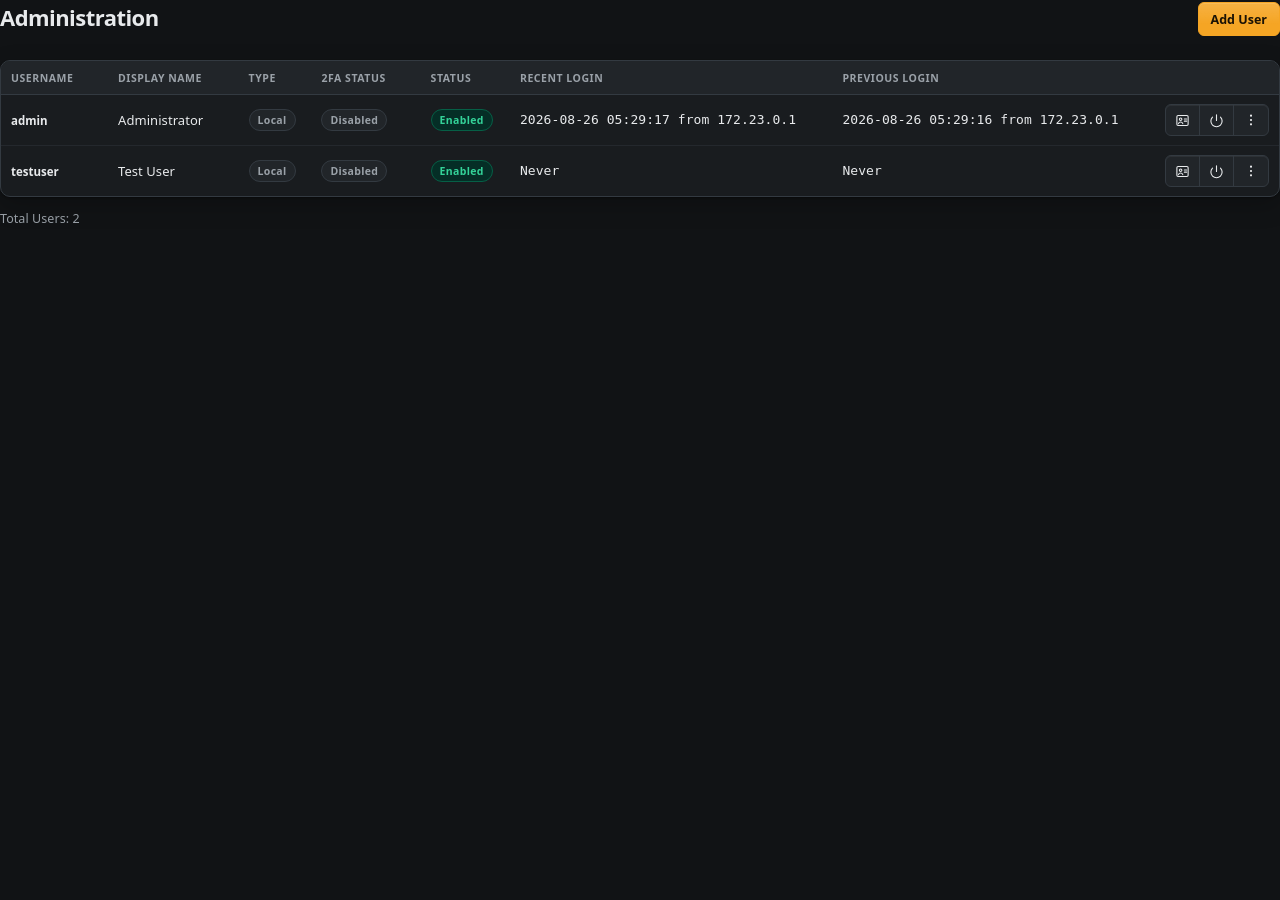
Test case: Users: "Add User" › the order of the four validations is the one of upstream
Click the button "Add User".
click(1239, 19)  # box [1198,2,1279,36]
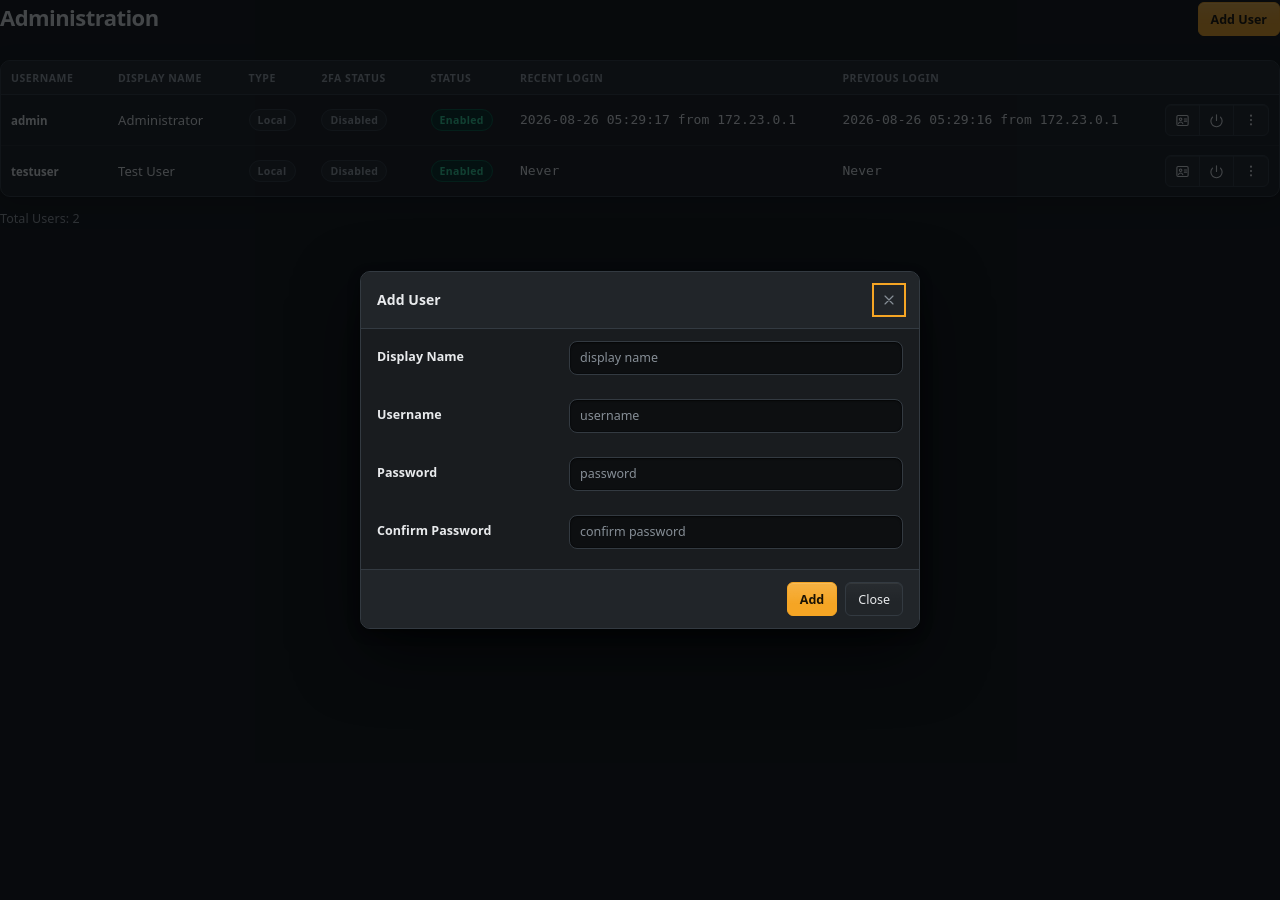
Expected: the password field labelled "Confirm Password" is shown, [569,515,903,549]
Click the button "Add".
click(812, 599)  # box [787,582,837,616]
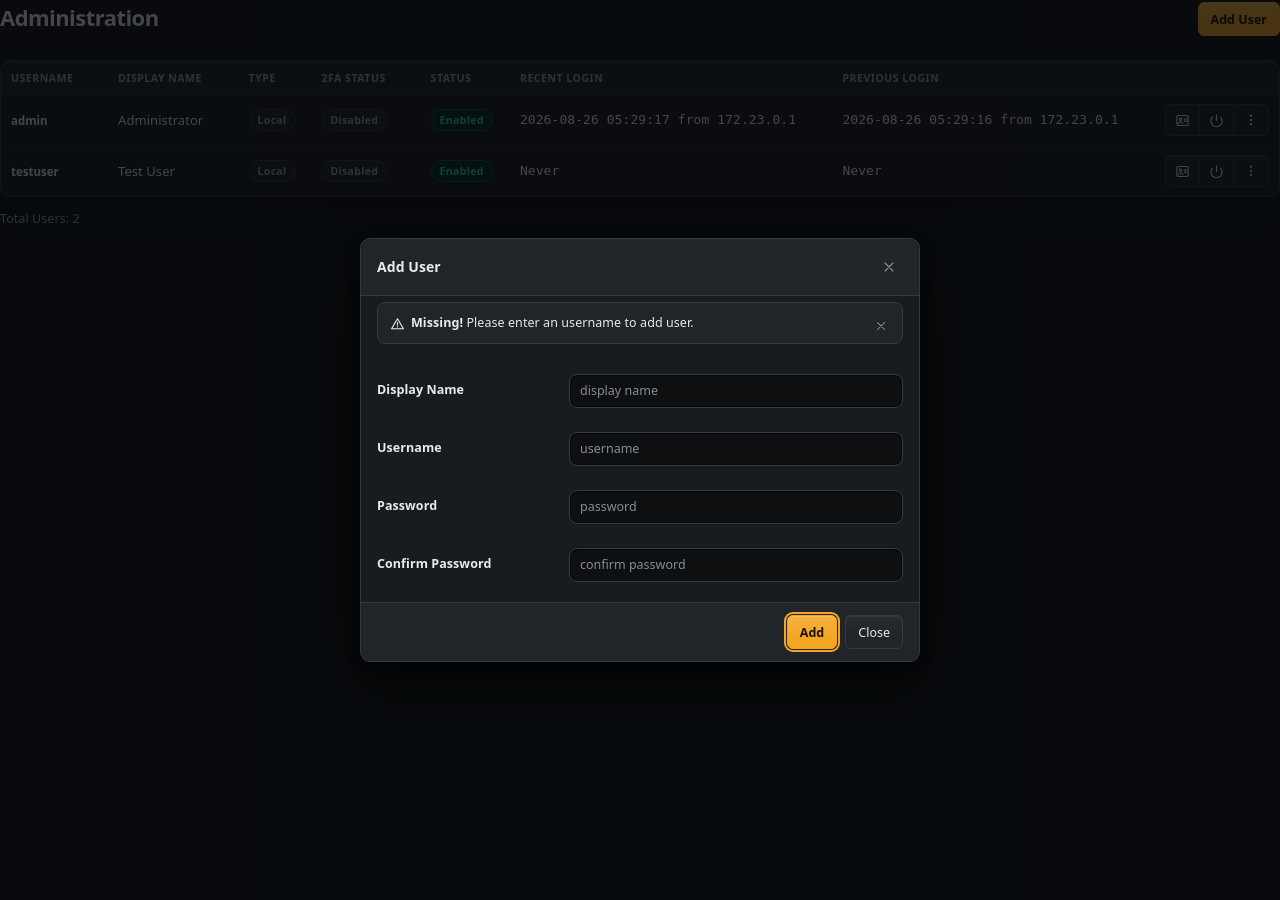
Expected: the text "Please enter an username to add user." is shown, [466,314,694,331]
Type "newuser" into the field labelled "Username".
click(736, 449); type("newuser")  # box [569,432,903,466]
Click the button "Add".
click(812, 632)  # box [787,615,837,649]
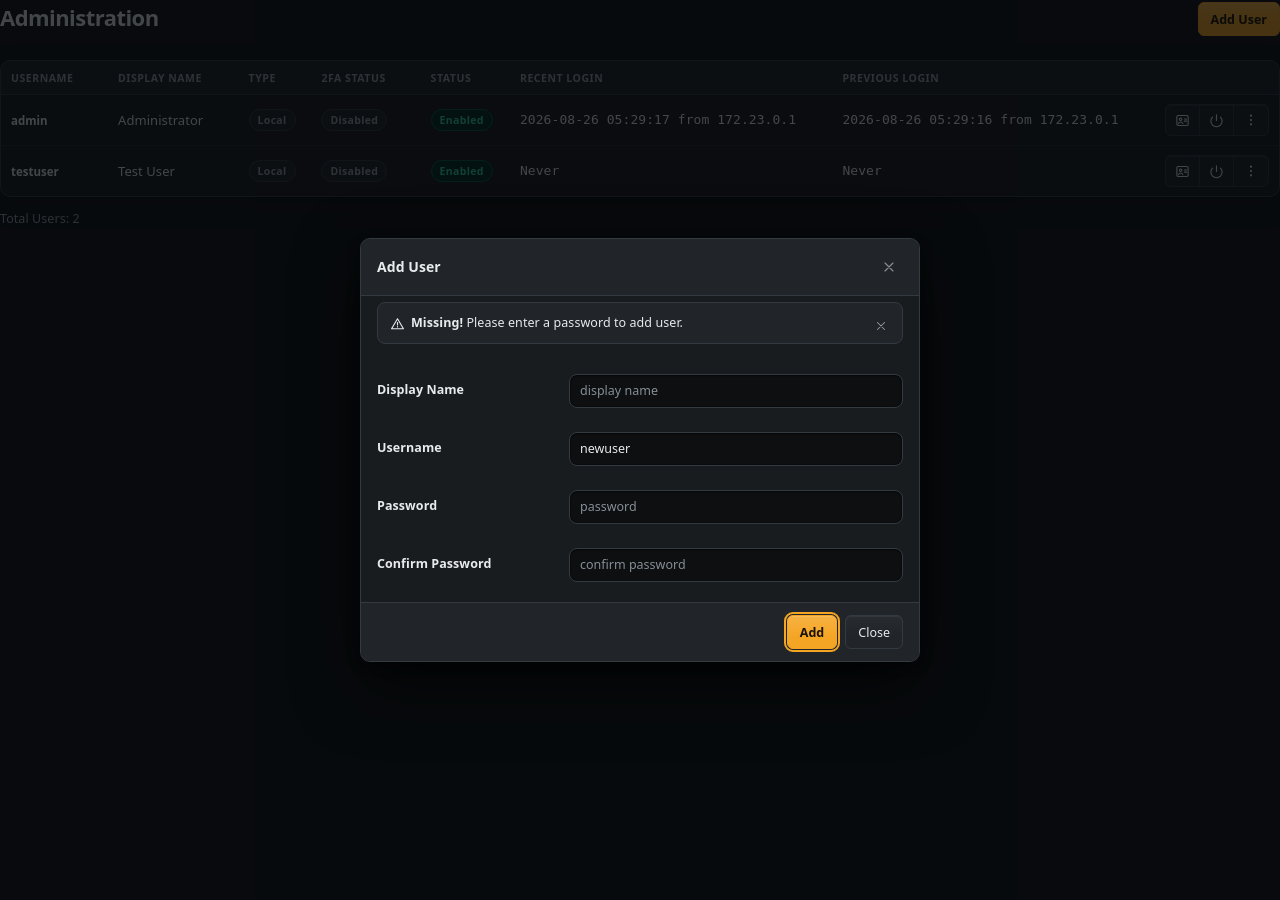
Expected: the text "Please enter a password to add user." is shown, [466,314,683,331]
Type "one" into the password field labelled "Password".
click(736, 507); type("one")  # box [569,490,903,524]
Click the button "Add".
click(812, 632)  # box [787,615,837,649]
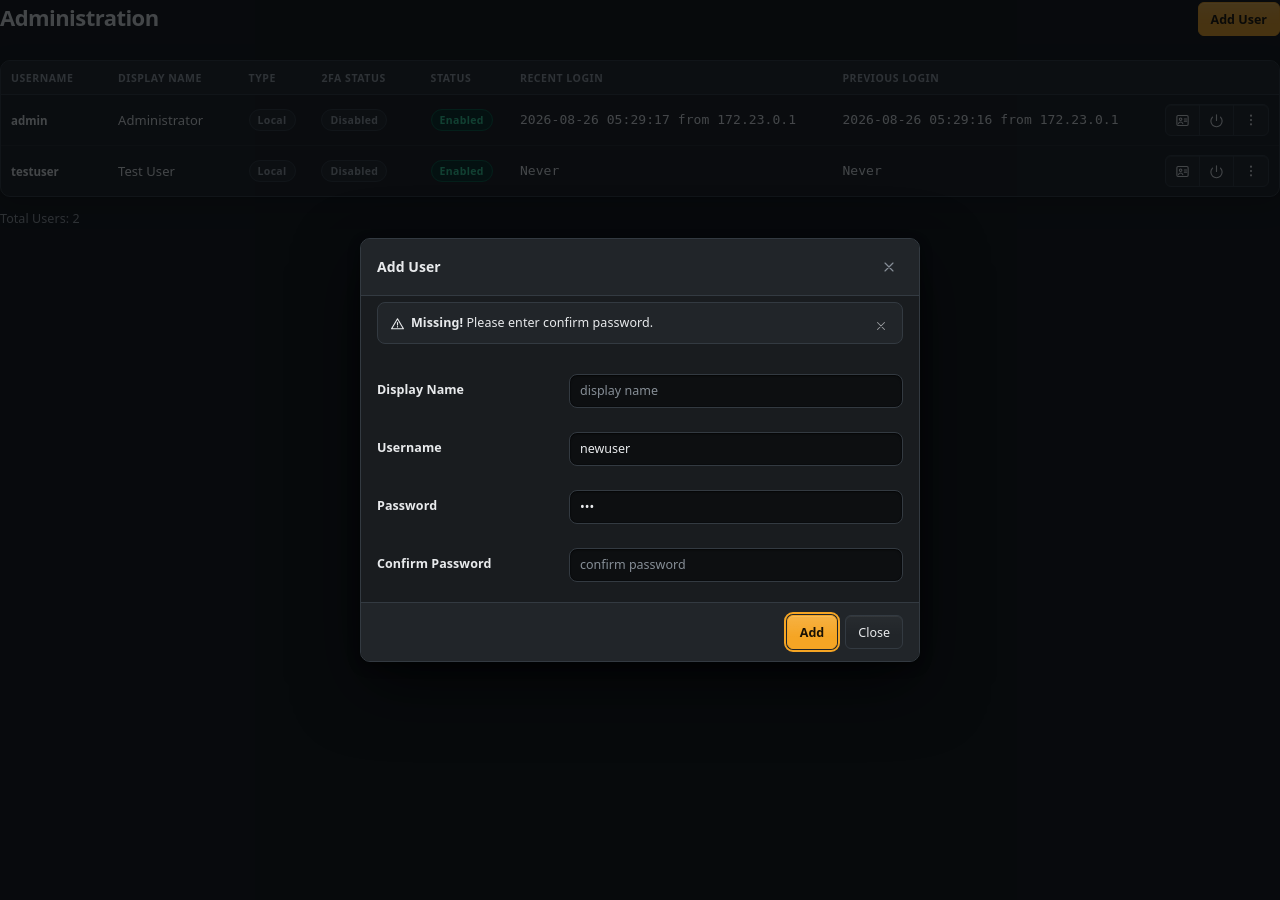
Expected: the text "Please enter confirm password." is shown, [466,314,653,331]
Type "two" into the password field labelled "Confirm Password".
click(736, 565); type("two")  # box [569,548,903,582]
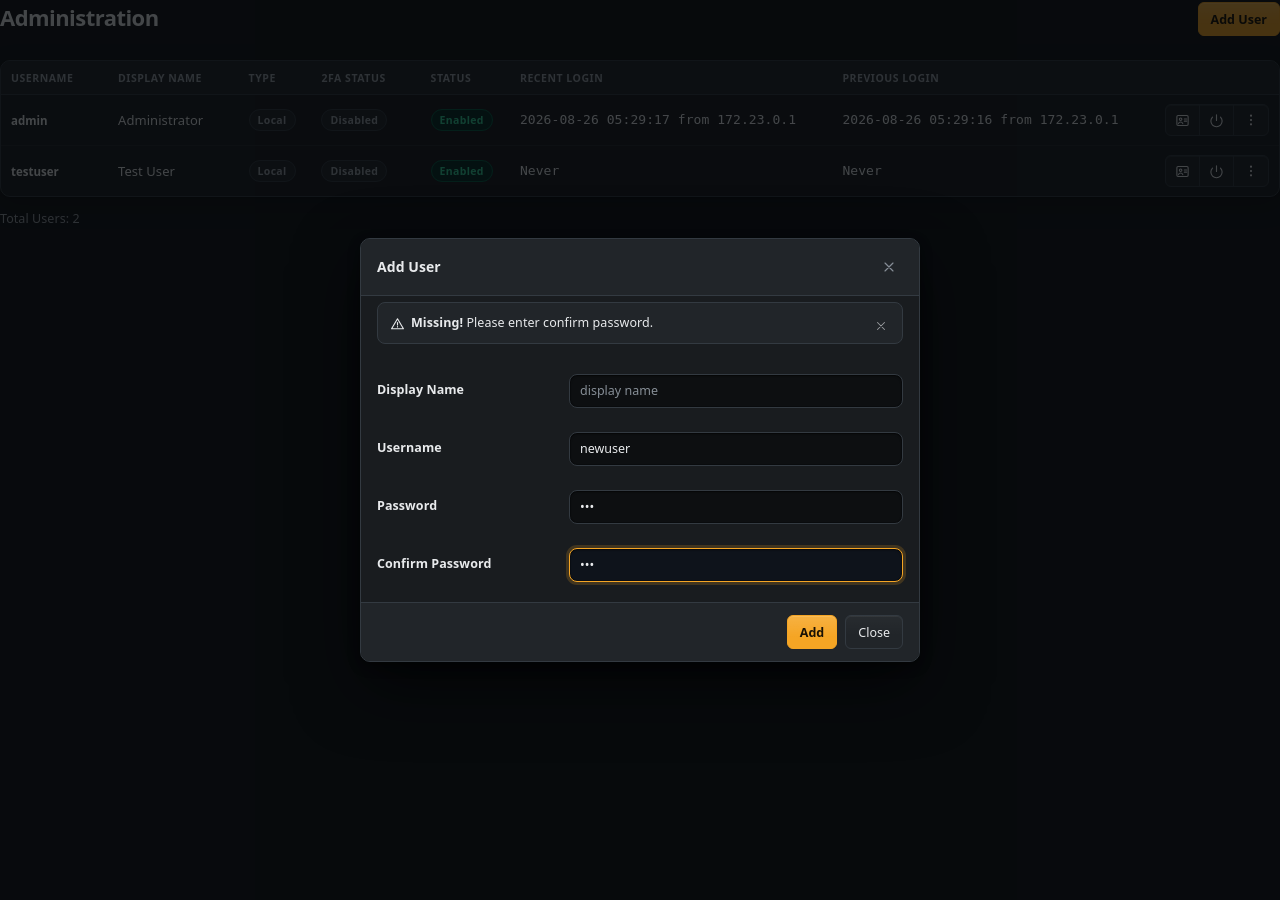
Click the button "Add".
click(812, 632)  # box [787,615,837,649]
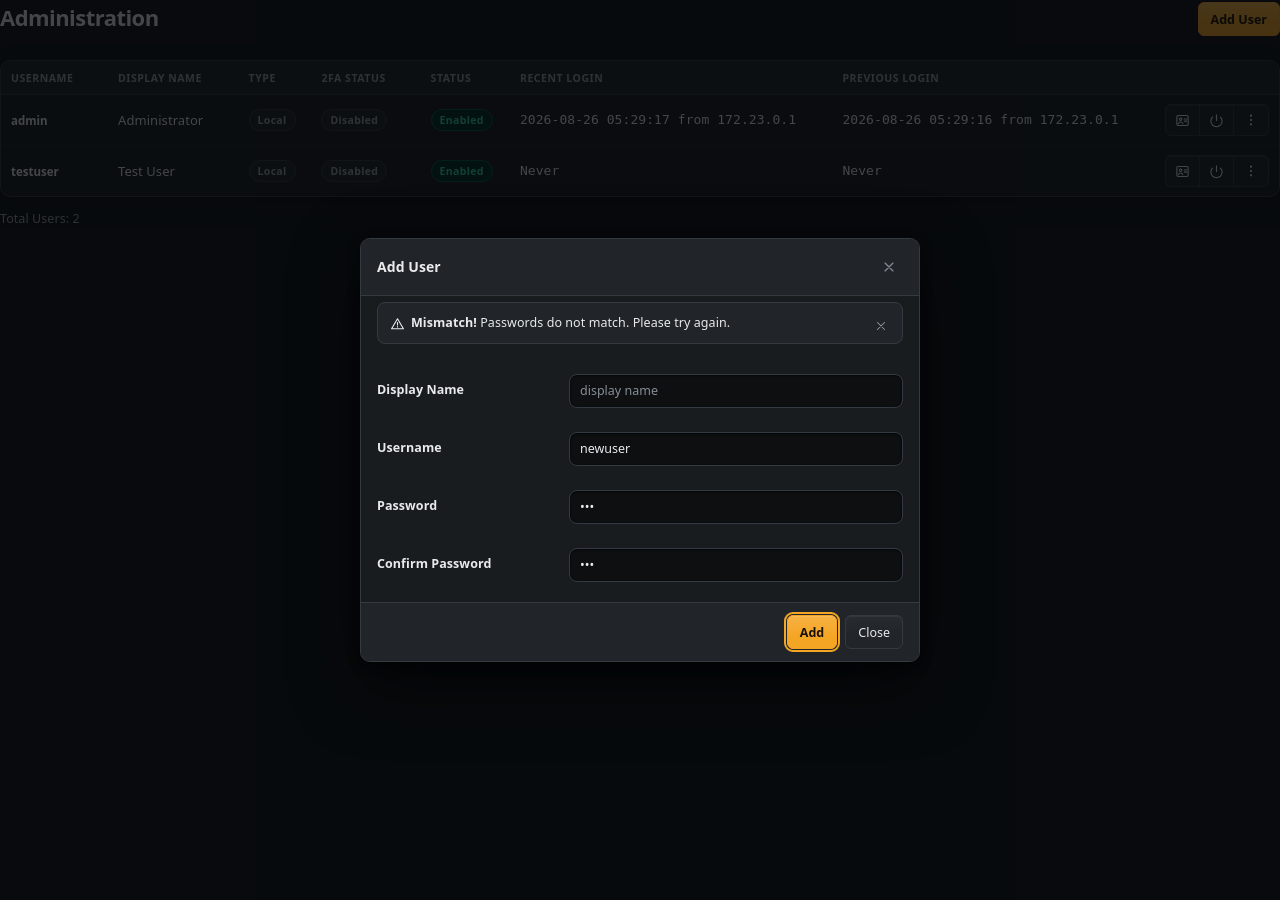
Expected: the text "Passwords do not match. Please try again." is shown, [480,314,730,331]
